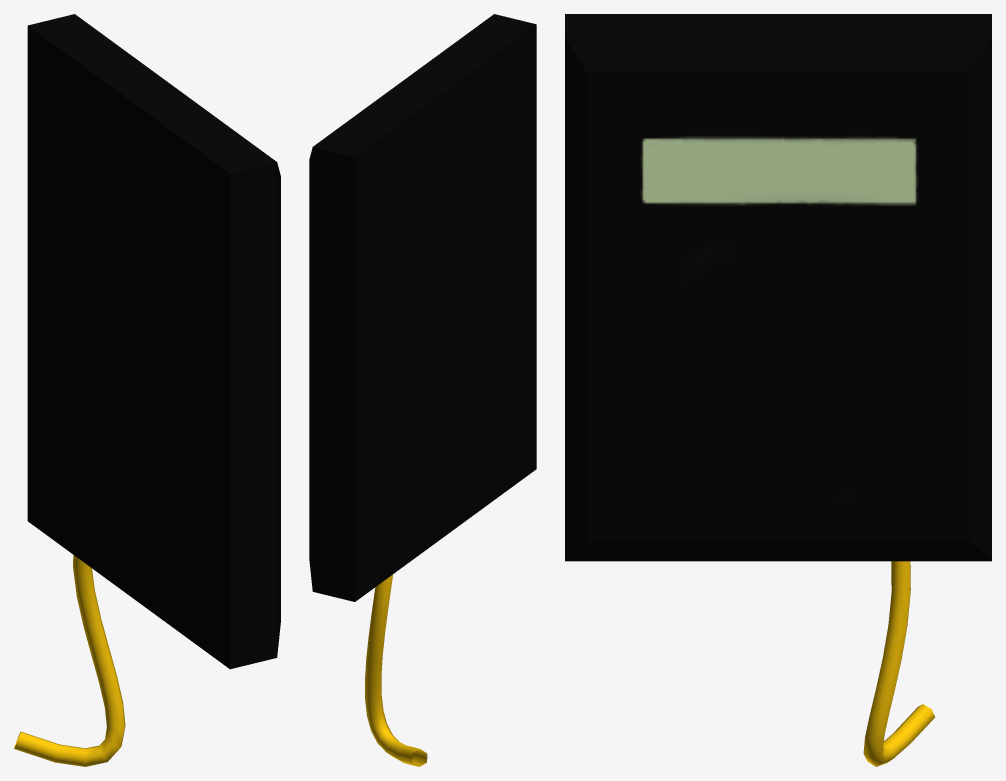
Rendered from Lock.fbx.
3 views of the same model, side by side, from view 1: azimuth 30°, elevation 25°; view 2: azimuth 150°, elevation 25°; view 3: azimuth 270°, elevation 25° (orthographic). The views are drawn at different scales.
Visible parts, largest first — view 1: Lock; view 2: Lock; view 3: Lock.
Part boxes in pixels (box(x1,y1,x2,y2)): Lock: box(14, 14, 280, 766); Lock: box(309, 14, 536, 766); Lock: box(565, 14, 991, 766).
Size of the model in its own units: 61.58 by 385 by 200.
